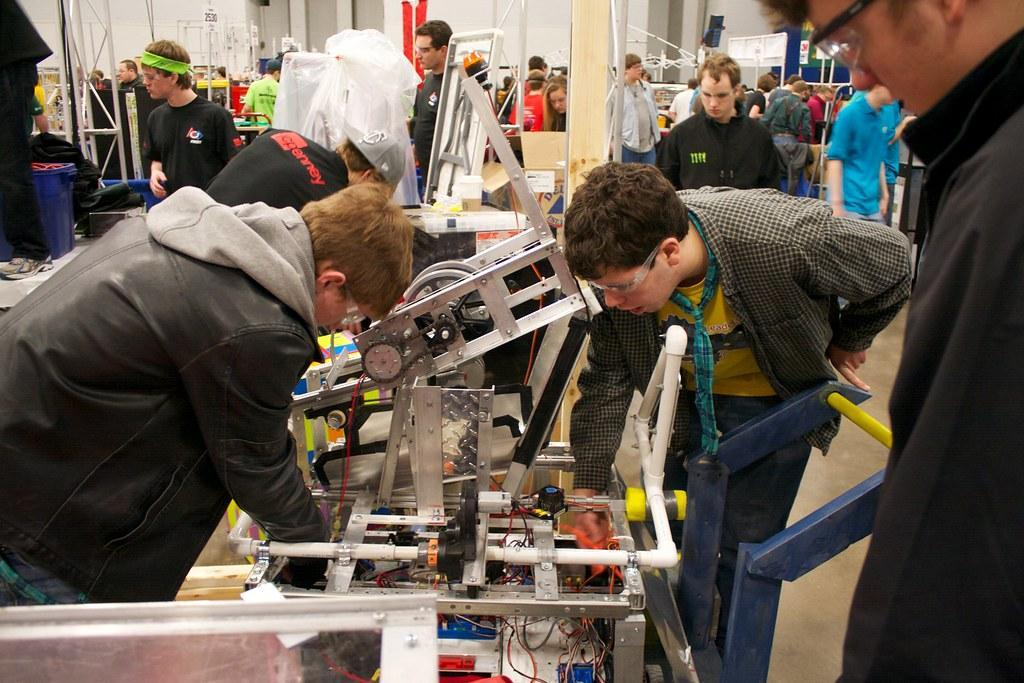robot: (260, 47, 732, 683)
